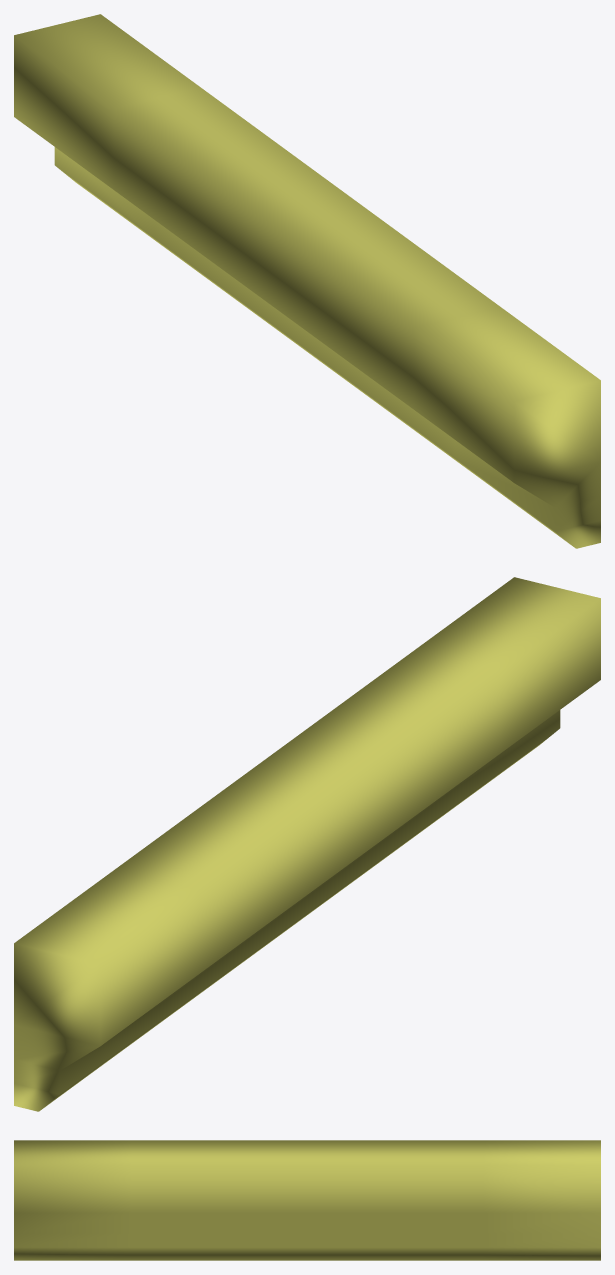
File: Wall_Orn_04_x1.fbx
The picture shows the model from 3 angles, top to bottom: view 1: azimuth 30°, elevation 25°; view 2: azimuth 150°, elevation 25°; view 3: azimuth 270°, elevation 25°; orthographic projection. The views are drawn at different scales.
Parts seen in each view (by area): view 1: Wall_Orn_04_x1; view 2: Wall_Orn_04_x1; view 3: Wall_Orn_04_x1.
Boxes of the visible parts, bbox=[...] form: Wall_Orn_04_x1: bbox=[14, 14, 600, 548]; Wall_Orn_04_x1: bbox=[14, 577, 600, 1111]; Wall_Orn_04_x1: bbox=[14, 1140, 600, 1260].
Bounding box in the file's own units: 30 × 53.75 × 300.
